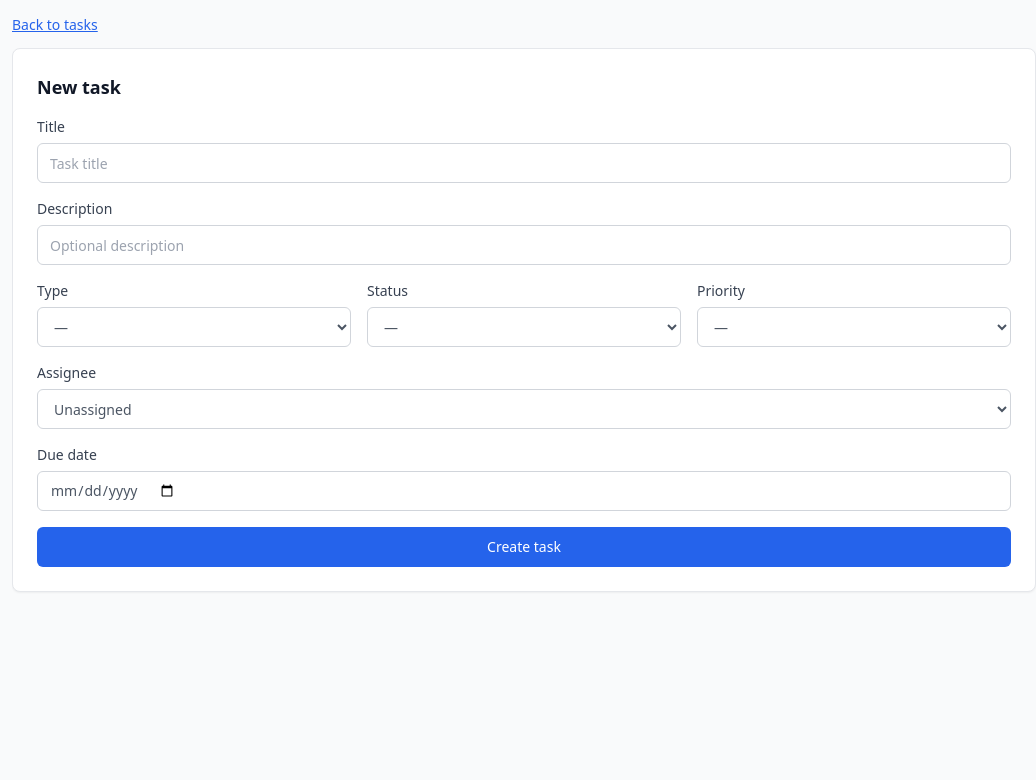
Task create/edit validation + assignment + delete confirmation (behavior) › create maps server 422 to the title field (behavior)
This screenshot has width=1036, height=780.
Expected: the form named "task form" is shown, [37, 117, 1011, 567]
In the field labelled "Title": (524, 163) [37, 143, 1011, 183], type "Duplicate"
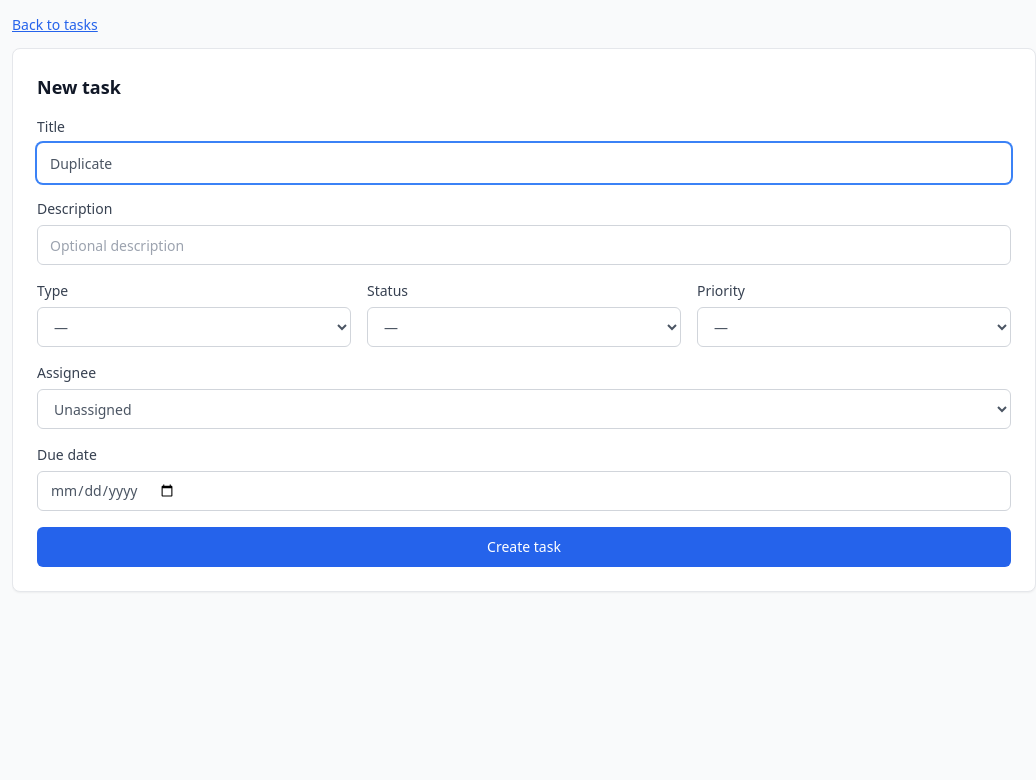
Click the button "Create task": (524, 547) [37, 527, 1011, 567]
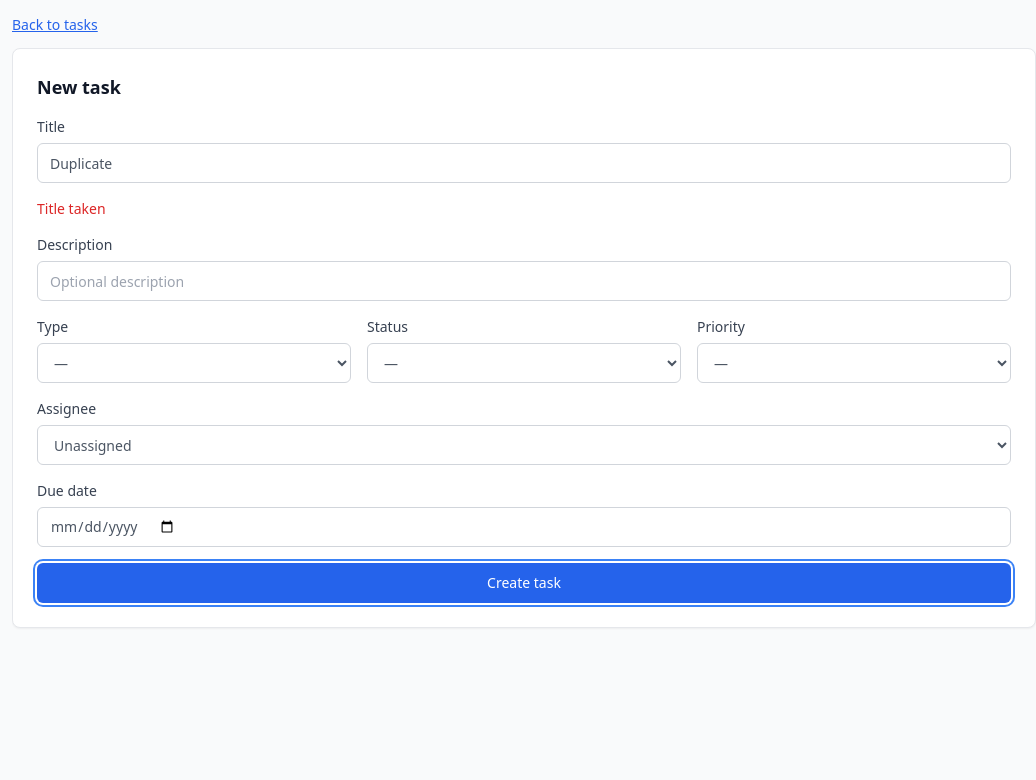
Expected: the text "Title taken" is shown, [37, 199, 106, 218]
